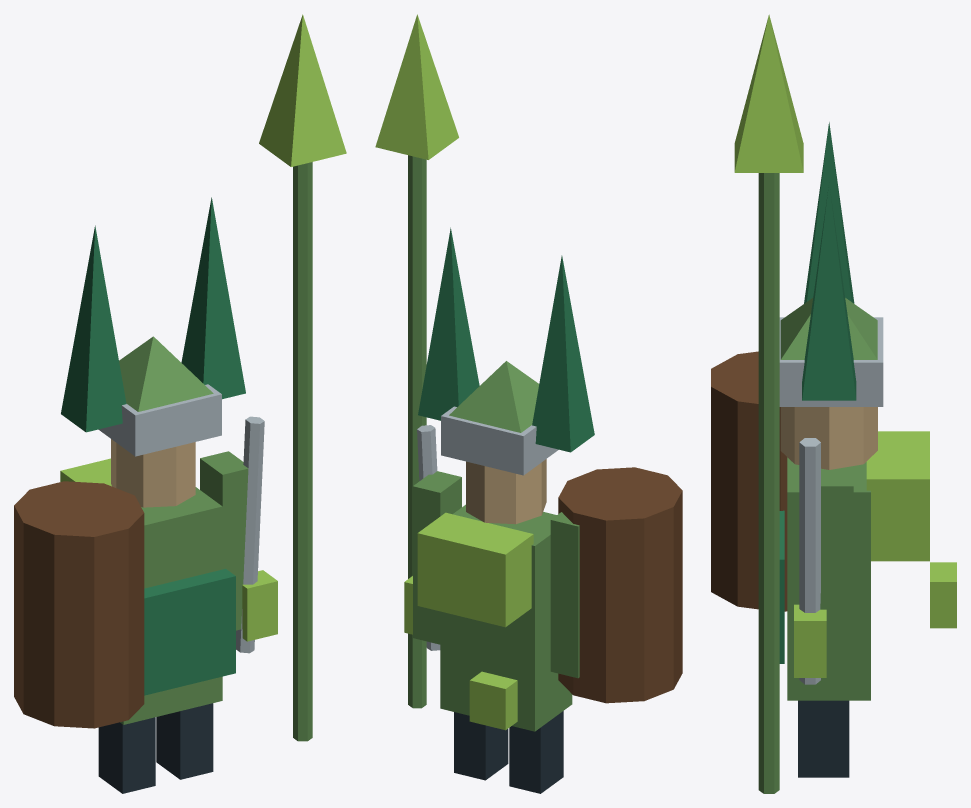
The model's file is pikeman.obj.
The picture shows the model from 3 angles, left to right: view 1: azimuth 30°, elevation 25°; view 2: azimuth 150°, elevation 25°; view 3: azimuth 270°, elevation 25°; orthographic projection. The views are drawn at different scales.
Parts seen in each view (by area): view 1: infantry; view 2: infantry; view 3: infantry.
Boxes of the visible parts, <box> form: infantry: <box>14,14,346,793</box>; infantry: <box>375,14,682,793</box>; infantry: <box>711,14,956,793</box>.
Bounding box in the file's own units: 1.24 × 2.95 × 0.8181.
